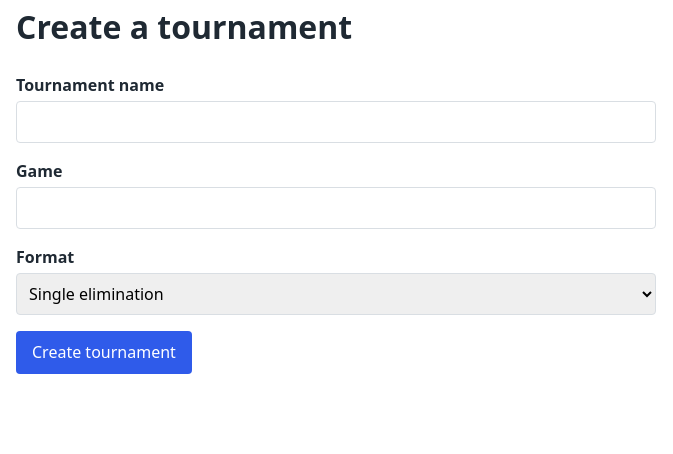
Scenario: CreateTournamentPage › shows field errors returned by the server
Step 1. Type "Cup" into the field labelled "Tournament name" → (336, 122), box [16,101,656,143]
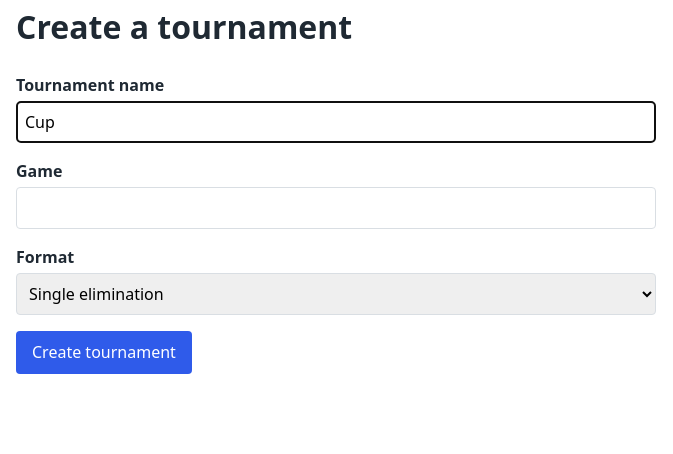
Step 2. Type "Chess" into the field labelled "Game" → (336, 208), box [16,187,656,229]
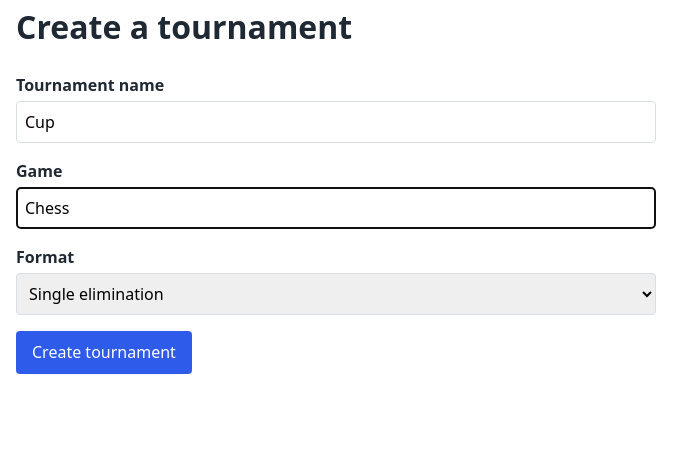
Step 3. Click the button "Create tournament" → (104, 352), box [16,331,192,374]
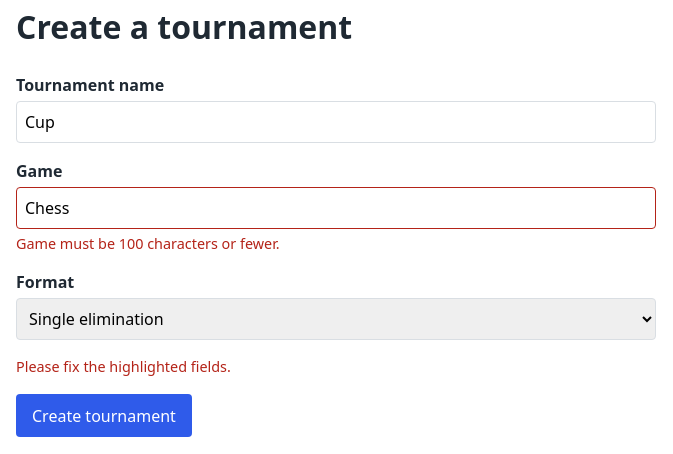
Now the text "Game must be 100 characters or fewer." is shown, box [16,234,280,253]
Now the message reads "Please fix the highlighted fields.", box [16,358,231,376]
